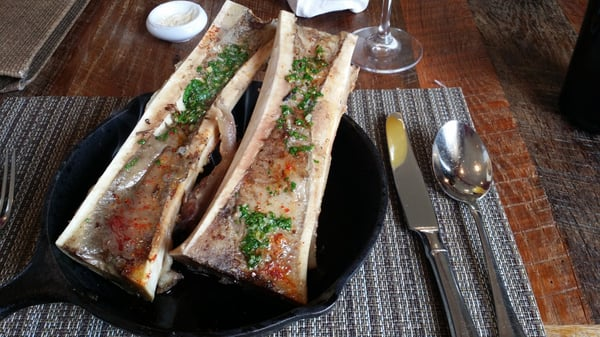salad: (431, 118, 544, 330), (433, 119, 493, 201)
sandwich: (382, 113, 471, 333)
